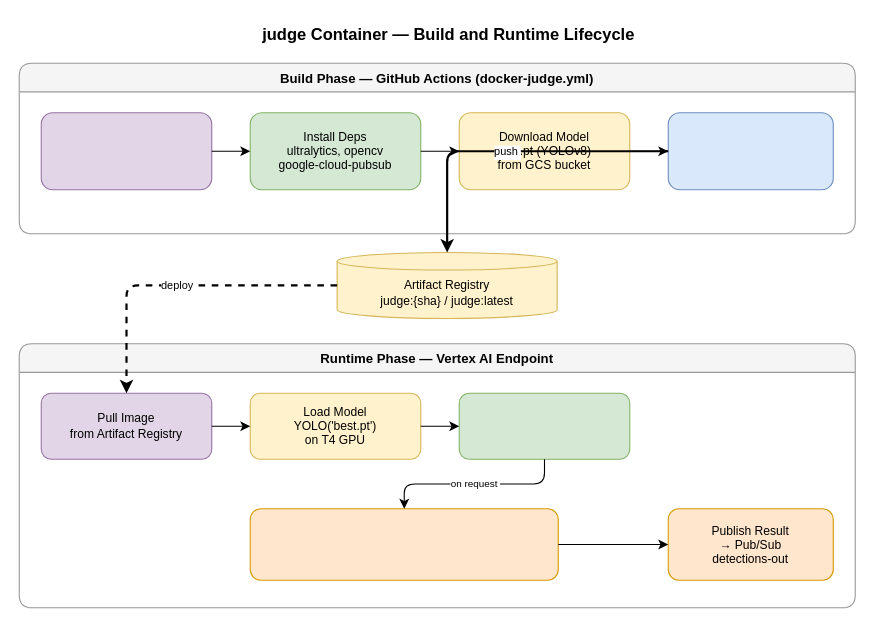
Image size: 875x627. Some labels were removed from this diagram. The shapes that lost their labels are listed below. From the top down, each one's centre as x and y in pixels, then its label:
the point at 126,151: Base Image pytorch/pytorch cuda12.1
the point at 750,151: Tag & Push judge:{sha} to Artifact Registry
the point at 544,425: Serve HTTP :8080 POST /predict GET /healthz
the point at 403,544: Inference Loop Decode JPEG → YOLOv8 detect → labels + boxes + confidence
